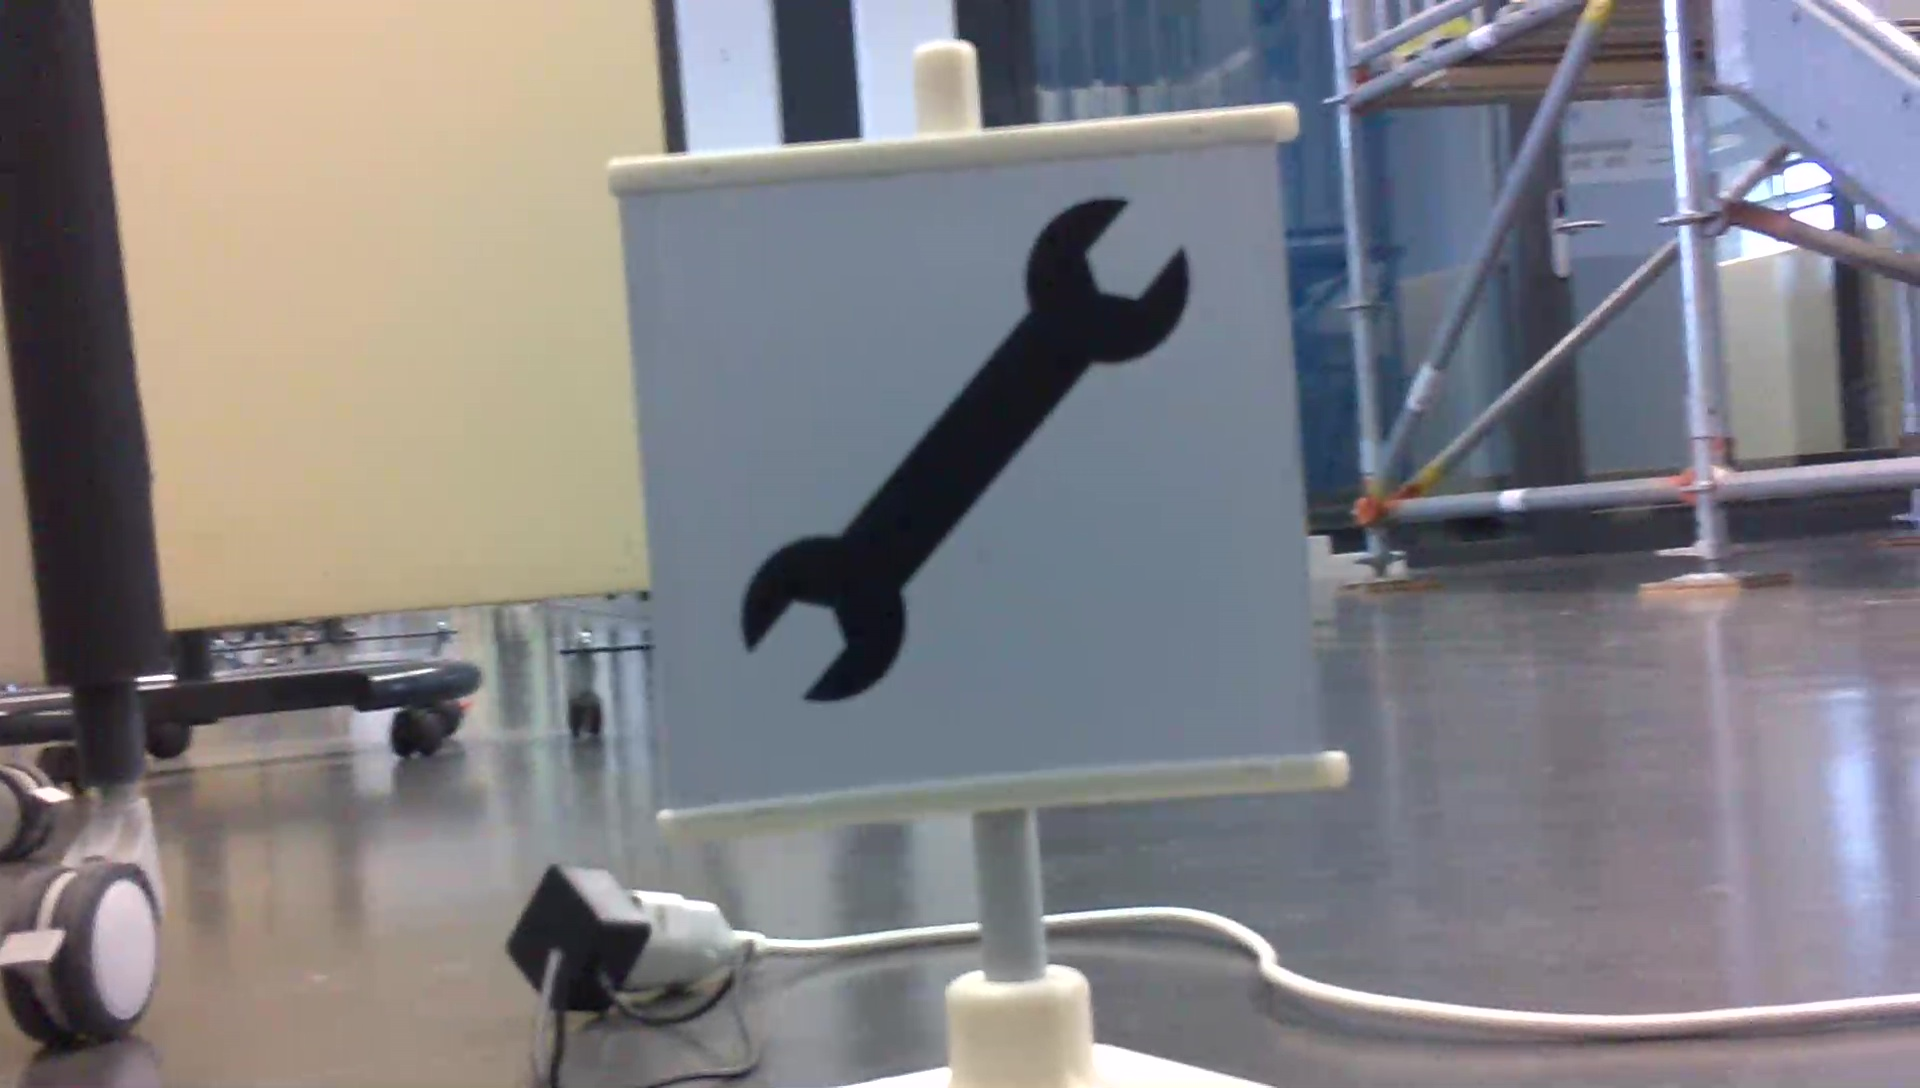wrench: (727, 187, 1205, 719)
